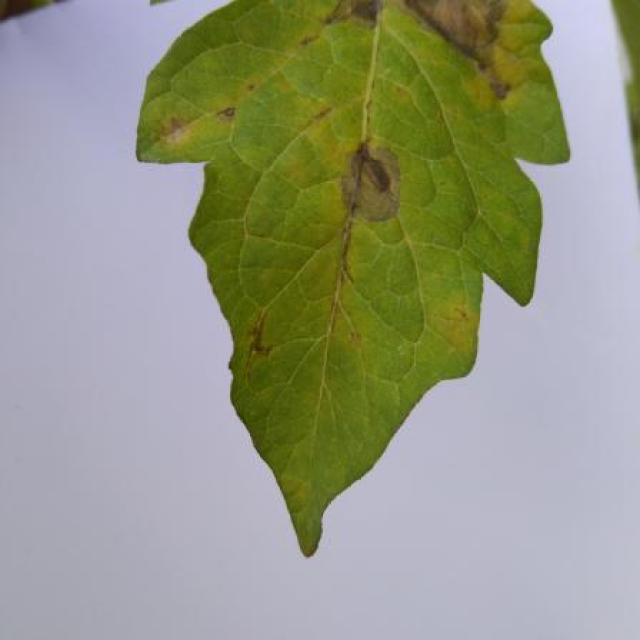Early Blight: (135, 0, 572, 559)
